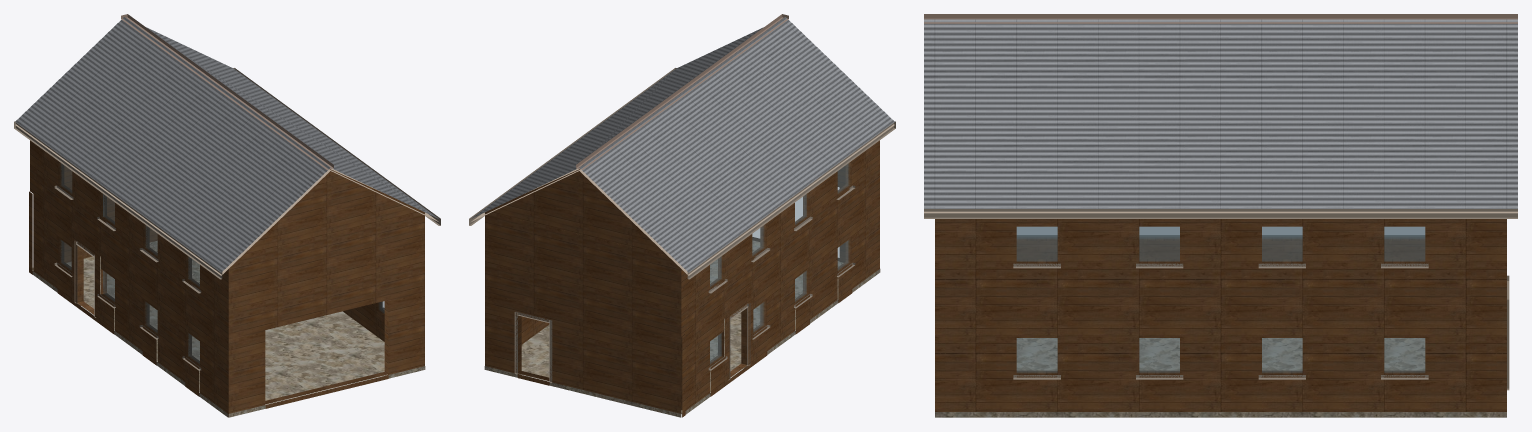
The model's file is boathouse.reveal-v1.lod1.glb.
3 views of the same model, side by side, from view 1: azimuth 30°, elevation 25°; view 2: azimuth 150°, elevation 25°; view 3: azimuth 270°, elevation 25° (orthographic). The views are drawn at different scales.
Parts seen in each view (by area): view 1: boathouse; view 2: boathouse; view 3: boathouse.
Boxes of the visible parts, x1,y1,x2,y2 form: boathouse: (14, 14, 440, 417); boathouse: (469, 14, 895, 417); boathouse: (924, 14, 1517, 417).
Bounding box in the file's own units: 8.98 × 8.98 × 14.54.
5 materials, 3 textured.
